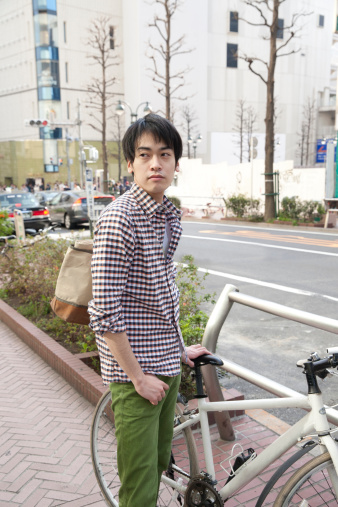em pe: (88, 115, 212, 504)
